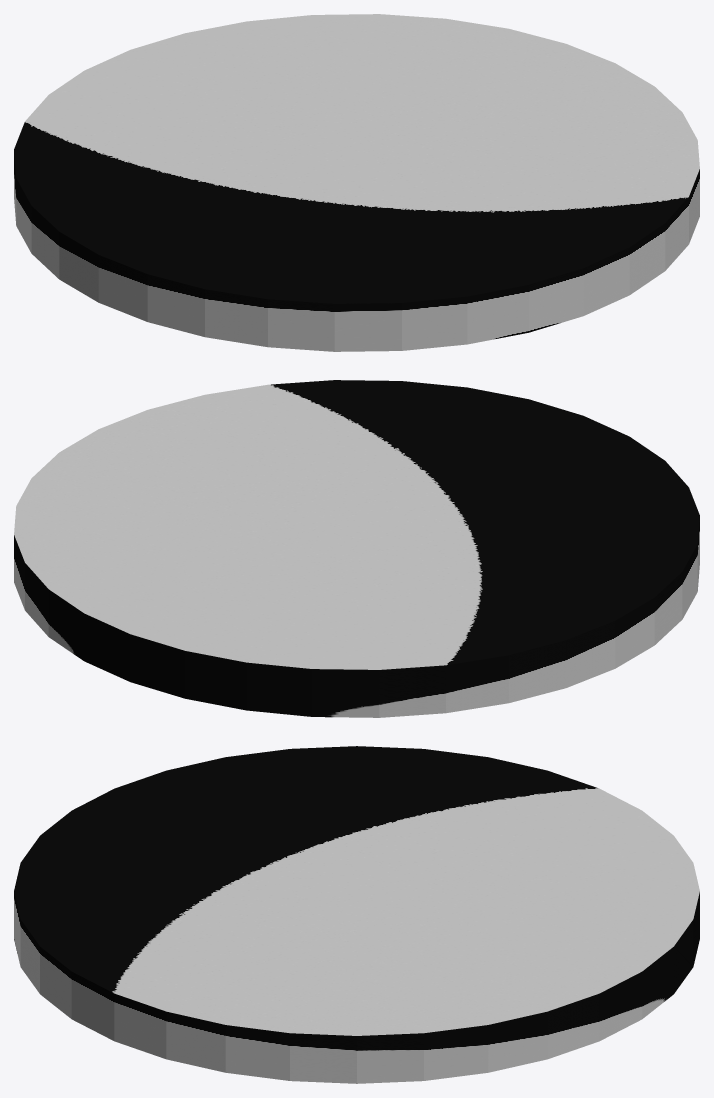
Rendered from Propeller1.glb.
The picture shows the model from 3 angles, top to bottom: view 1: azimuth 30°, elevation 25°; view 2: azimuth 150°, elevation 25°; view 3: azimuth 270°, elevation 25°; orthographic projection.
Parts seen in each view (by area): view 1: PropDisk-cylinder; view 2: PropDisk-cylinder; view 3: PropDisk-cylinder.
Boxes of the visible parts, left/top/right/bottom form: PropDisk-cylinder: left=14, top=14, right=699, bottom=351; PropDisk-cylinder: left=14, top=380, right=699, bottom=717; PropDisk-cylinder: left=14, top=746, right=699, bottom=1083.
Bounding box in the file's own units: 0.13 × 0.01 × 0.13.
Materials: 2 (1 with a texture image).
